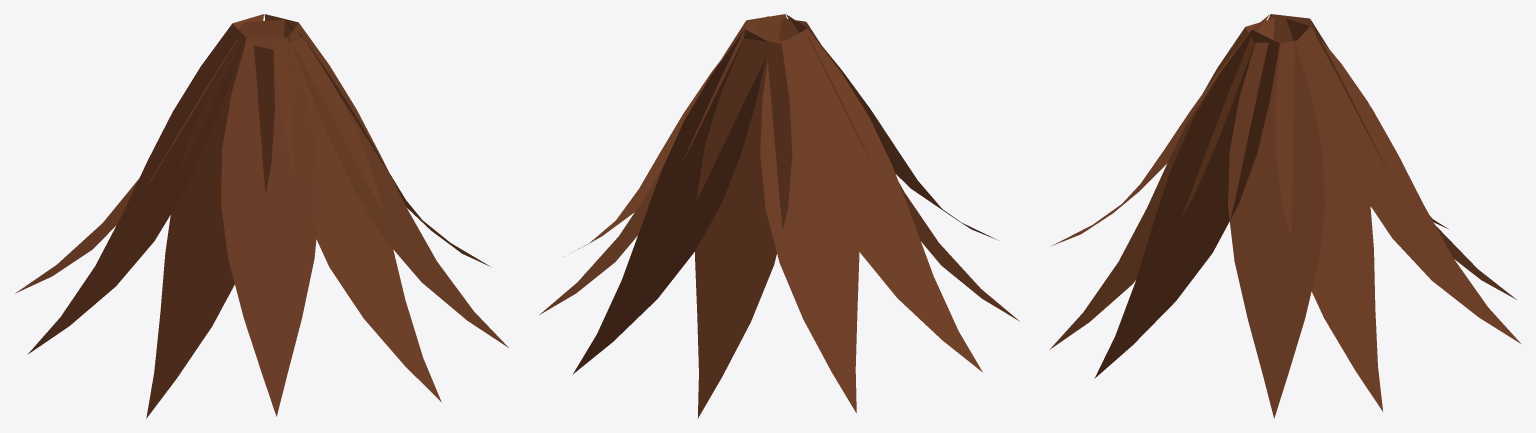
The picture shows the model from 3 angles, left to right: view 1: azimuth 30°, elevation 25°; view 2: azimuth 150°, elevation 25°; view 3: azimuth 270°, elevation 25°; orthographic projection.
Parts seen in each view (by area): view 1: brush_Petal_g1_b0; view 2: brush_Petal_g1_b0; view 3: brush_Petal_g1_b0.
Part boxes in pixels (left/top/right/bottom): brush_Petal_g1_b0: left=15, top=14, right=508, bottom=418; brush_Petal_g1_b0: left=539, top=14, right=1019, bottom=418; brush_Petal_g1_b0: left=1049, top=14, right=1520, bottom=418.
Size of the model in its own units: 4.87 by 3.16 by 4.56.
